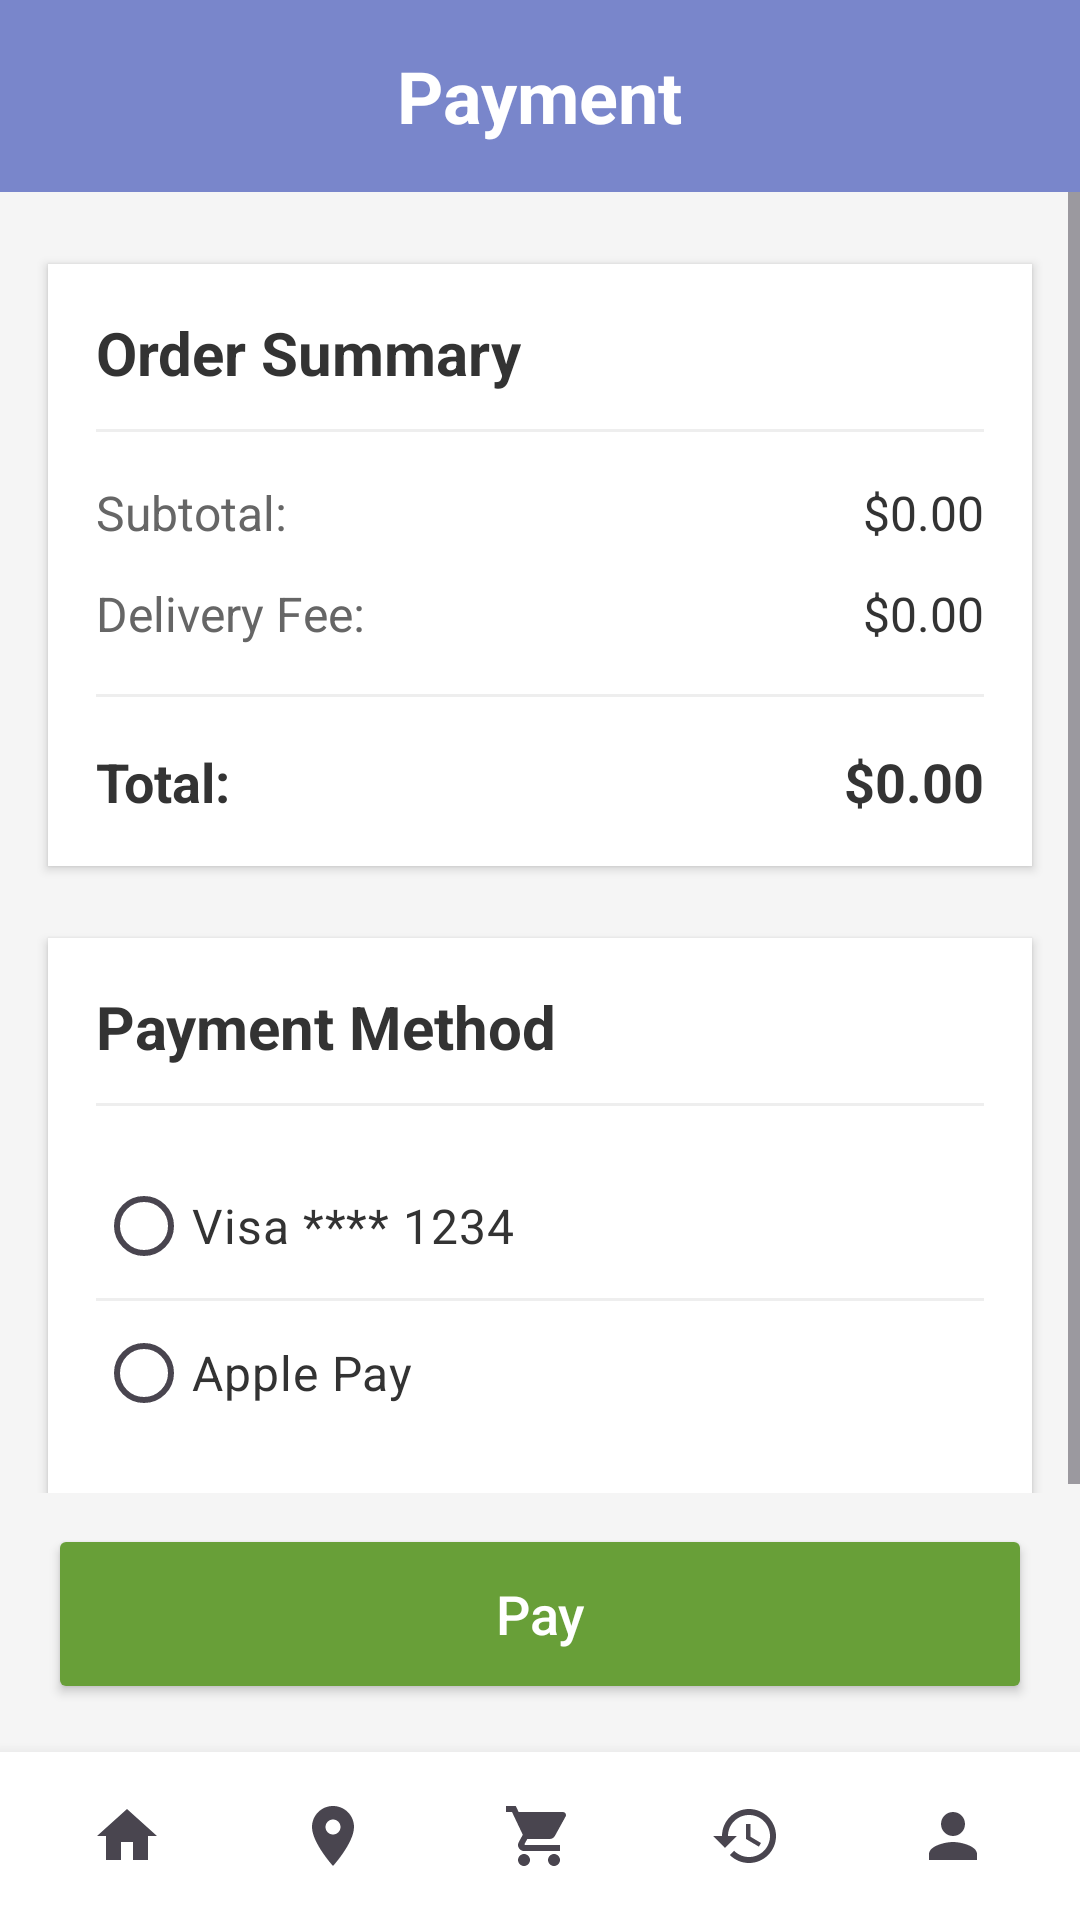

Icon bounding boxes for this 1080x1920 phone screenshot, format (x1, y1, x2, y2):
Home: (97, 1809, 157, 1860)
Order History: (713, 1809, 776, 1863)
Shopping Cart: (506, 1806, 566, 1866)
Track Orders: (312, 1806, 354, 1866)
